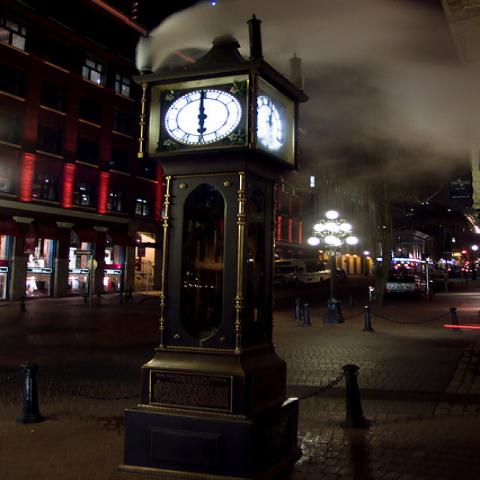car: (389, 275, 428, 291)
